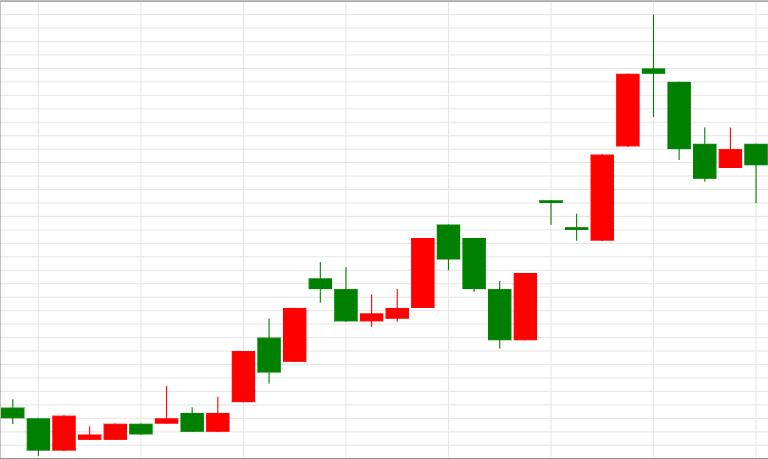evening_star_fall: (488, 13, 690, 347)
